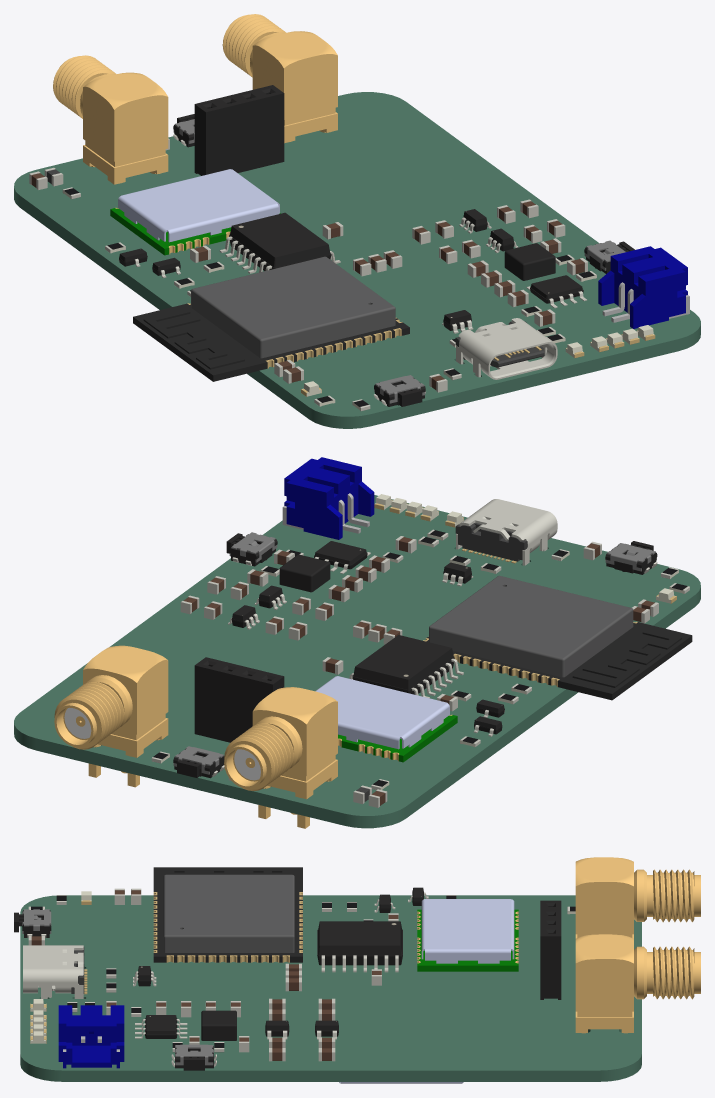
File: mesh_hand.glb
3 renders of one model, top to bottom at view 1: azimuth 30°, elevation 25°; view 2: azimuth 150°, elevation 25°; view 3: azimuth 270°, elevation 25°, orthographic. The views are drawn at different scales.
Parts seen in each view (by area): view 1: =>[0:1:1:39], =>[0:1:1:34], =>[0:1:1:11] (×2), NAUO1, =>[0:1:1:19], =>[0:1:1:17], =>[0:1:1:36], =>[0:1:1:9], =>[0:1:1:13] (×2), =>[0:1:1:30], =>[0:1:1:28]; view 2: =>[0:1:1:39], =>[0:1:1:11] (×2), =>[0:1:1:34], NAUO1, =>[0:1:1:17], =>[0:1:1:19], =>[0:1:1:36], =>[0:1:1:9], =>[0:1:1:13] (×3), =>[0:1:1:30], =>[0:1:1:28]; view 3: =>[0:1:1:39], =>[0:1:1:11] (×2), =>[0:1:1:34], NAUO1, =>[0:1:1:9], =>[0:1:1:17], =>[0:1:1:36], =>[0:1:1:19], =>[0:1:1:13] (×2), =>[0:1:1:30], =>[0:1:1:28], =>[0:1:1:32] (×2) (+1 smaller).
Part boxes in pixels (x1,y1,x2,y2): =>[0:1:1:39]: (14,92,700,428); =>[0:1:1:34]: (133,256,409,381); =>[0:1:1:11] (×2): (53,14,337,184); NAUO1: (110,169,280,255); =>[0:1:1:19]: (194,85,284,175); =>[0:1:1:17]: (598,246,689,328); =>[0:1:1:36]: (455,318,557,379); =>[0:1:1:9]: (219,212,340,273); =>[0:1:1:13] (×2): (374,240,634,406); =>[0:1:1:30]: (504,243,555,280); =>[0:1:1:28]: (526,275,586,308); =>[0:1:1:39]: (14,495,700,828); =>[0:1:1:11] (×2): (54,645,337,828); =>[0:1:1:34]: (423,575,692,700); NAUO1: (315,676,457,762); =>[0:1:1:17]: (282,457,374,539); =>[0:1:1:19]: (194,657,284,742); =>[0:1:1:36]: (455,499,557,565); =>[0:1:1:9]: (349,635,463,698); =>[0:1:1:13] (×3): (173,532,657,778); =>[0:1:1:30]: (279,554,330,592); =>[0:1:1:28]: (314,541,370,573); =>[0:1:1:39]: (20,895,641,1081); =>[0:1:1:11] (×2): (575,857,700,1033); =>[0:1:1:34]: (153,867,302,962); NAUO1: (417,899,518,971); =>[0:1:1:9]: (317,921,402,972); =>[0:1:1:17]: (58,1005,124,1068); =>[0:1:1:36]: (23,945,87,998); =>[0:1:1:19]: (540,900,561,999); =>[0:1:1:13] (×2): (14,909,216,1070); =>[0:1:1:30]: (201,1010,236,1040); =>[0:1:1:28]: (135,1015,187,1038); =>[0:1:1:32] (×2): (265,1020,338,1039).
Size of the model in its own units: 0.0568 by 0.0155 by 0.0828.
